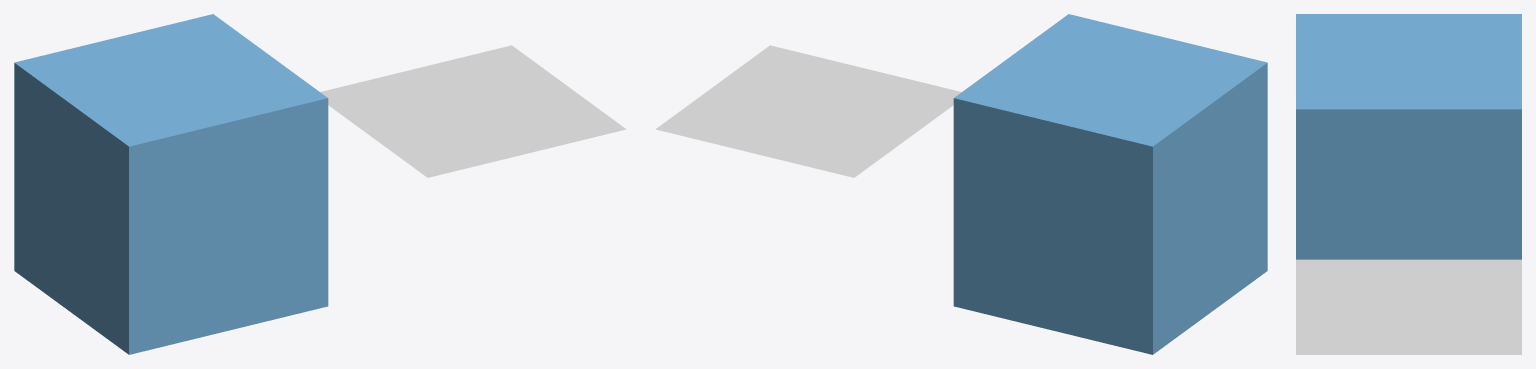
Rendered from pbr_factors.out_pbr.glb.
3 renders of one model, left to right at view 1: azimuth 30°, elevation 25°; view 2: azimuth 150°, elevation 25°; view 3: azimuth 270°, elevation 25°, orthographic.
Visible parts, largest first — view 1: Cube, Plane; view 2: Cube, Plane; view 3: Cube, Plane.
Part boxes in pixels (x1=…): Cube: x1=14, y1=14, x2=328, y2=354; Plane: x1=320, y1=45, x2=626, y2=177; Cube: x1=953, y1=14, x2=1267, y2=354; Plane: x1=655, y1=45, x2=961, y2=177; Cube: x1=1296, y1=14, x2=1521, y2=259; Plane: x1=1296, y1=259, x2=1521, y2=354.
Size of the model in its own units: 5 by 2 by 2.
